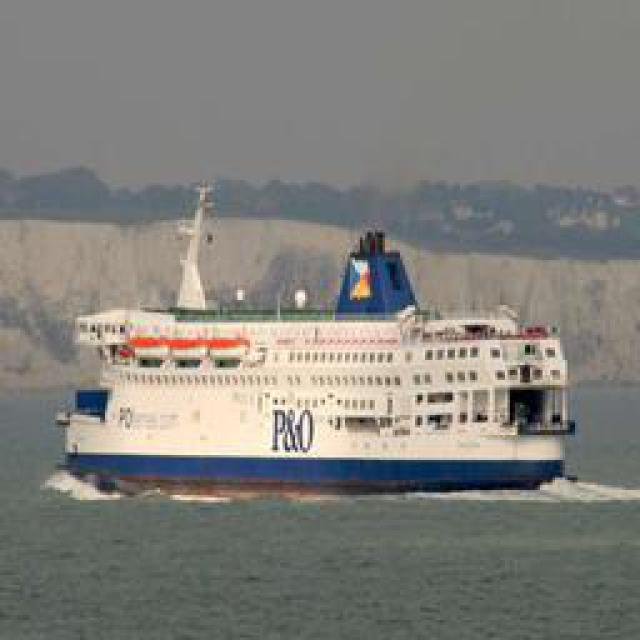Ship: (44, 220, 577, 488)
